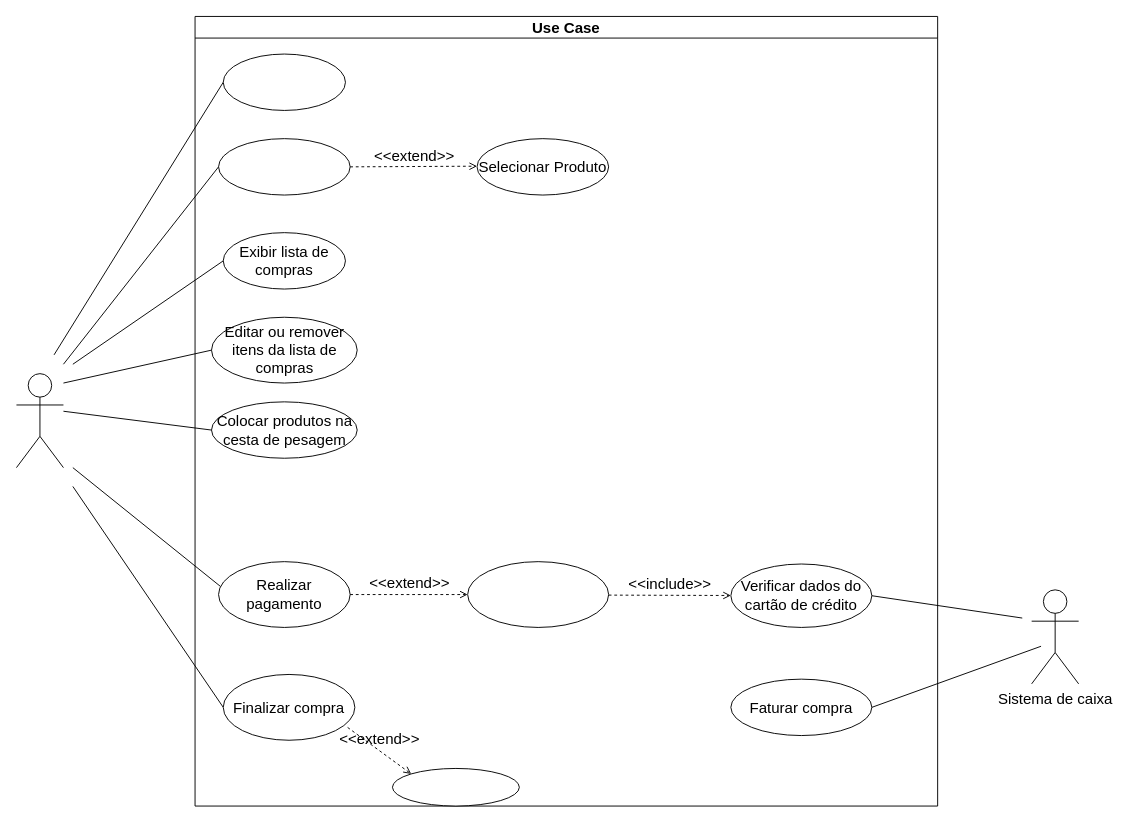
Image size: 1129x823. Some labels were removed from this diagram. Each missing label, with the centre of its shape:
Cliente: (x=39, y=420)
Emitir nota fiscal: (x=455, y=787)
Iniciar Compra: (x=283, y=81)
Ler código de barras: (x=284, y=166)
Preencher dados do cartão de crédito: (x=538, y=594)
